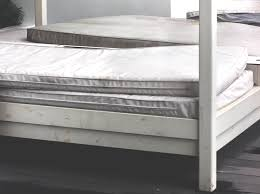bed-matress: (1, 42, 249, 119), (24, 14, 260, 56)
